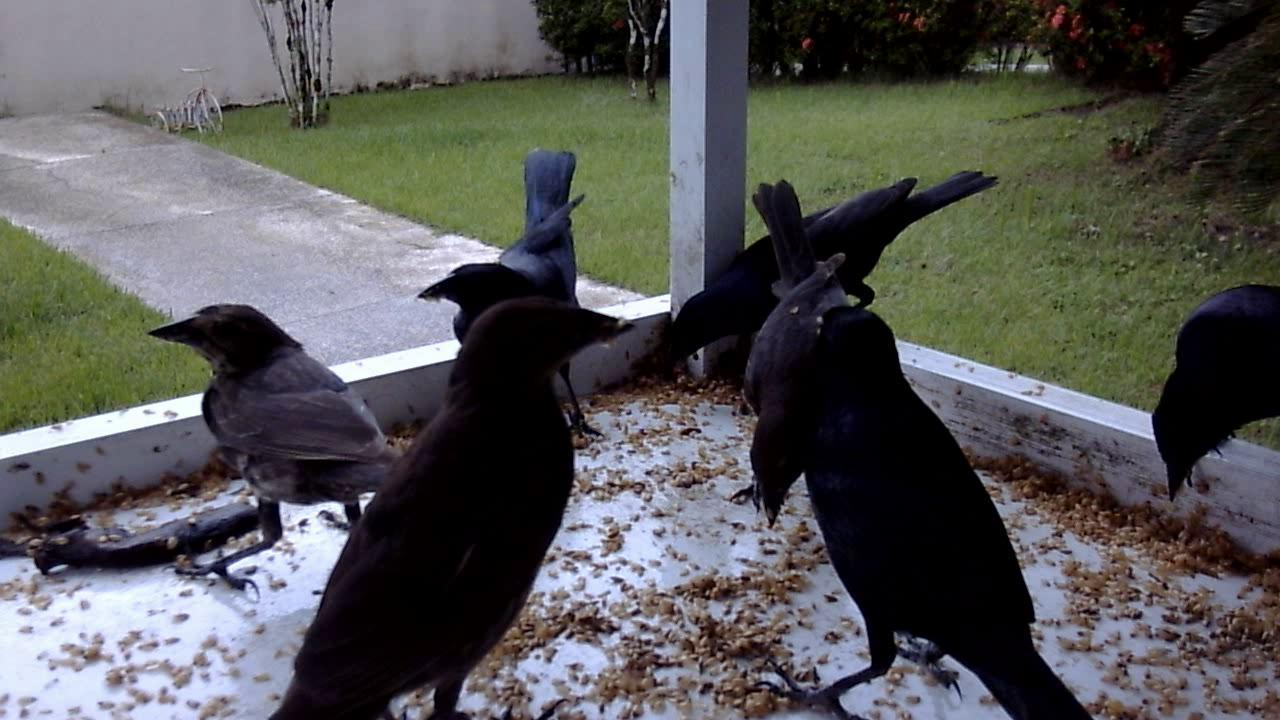chupim: (245, 278, 630, 716), (747, 311, 1118, 720), (695, 182, 951, 527), (138, 291, 409, 612), (647, 176, 997, 408), (409, 152, 592, 349), (1142, 274, 1275, 518)
